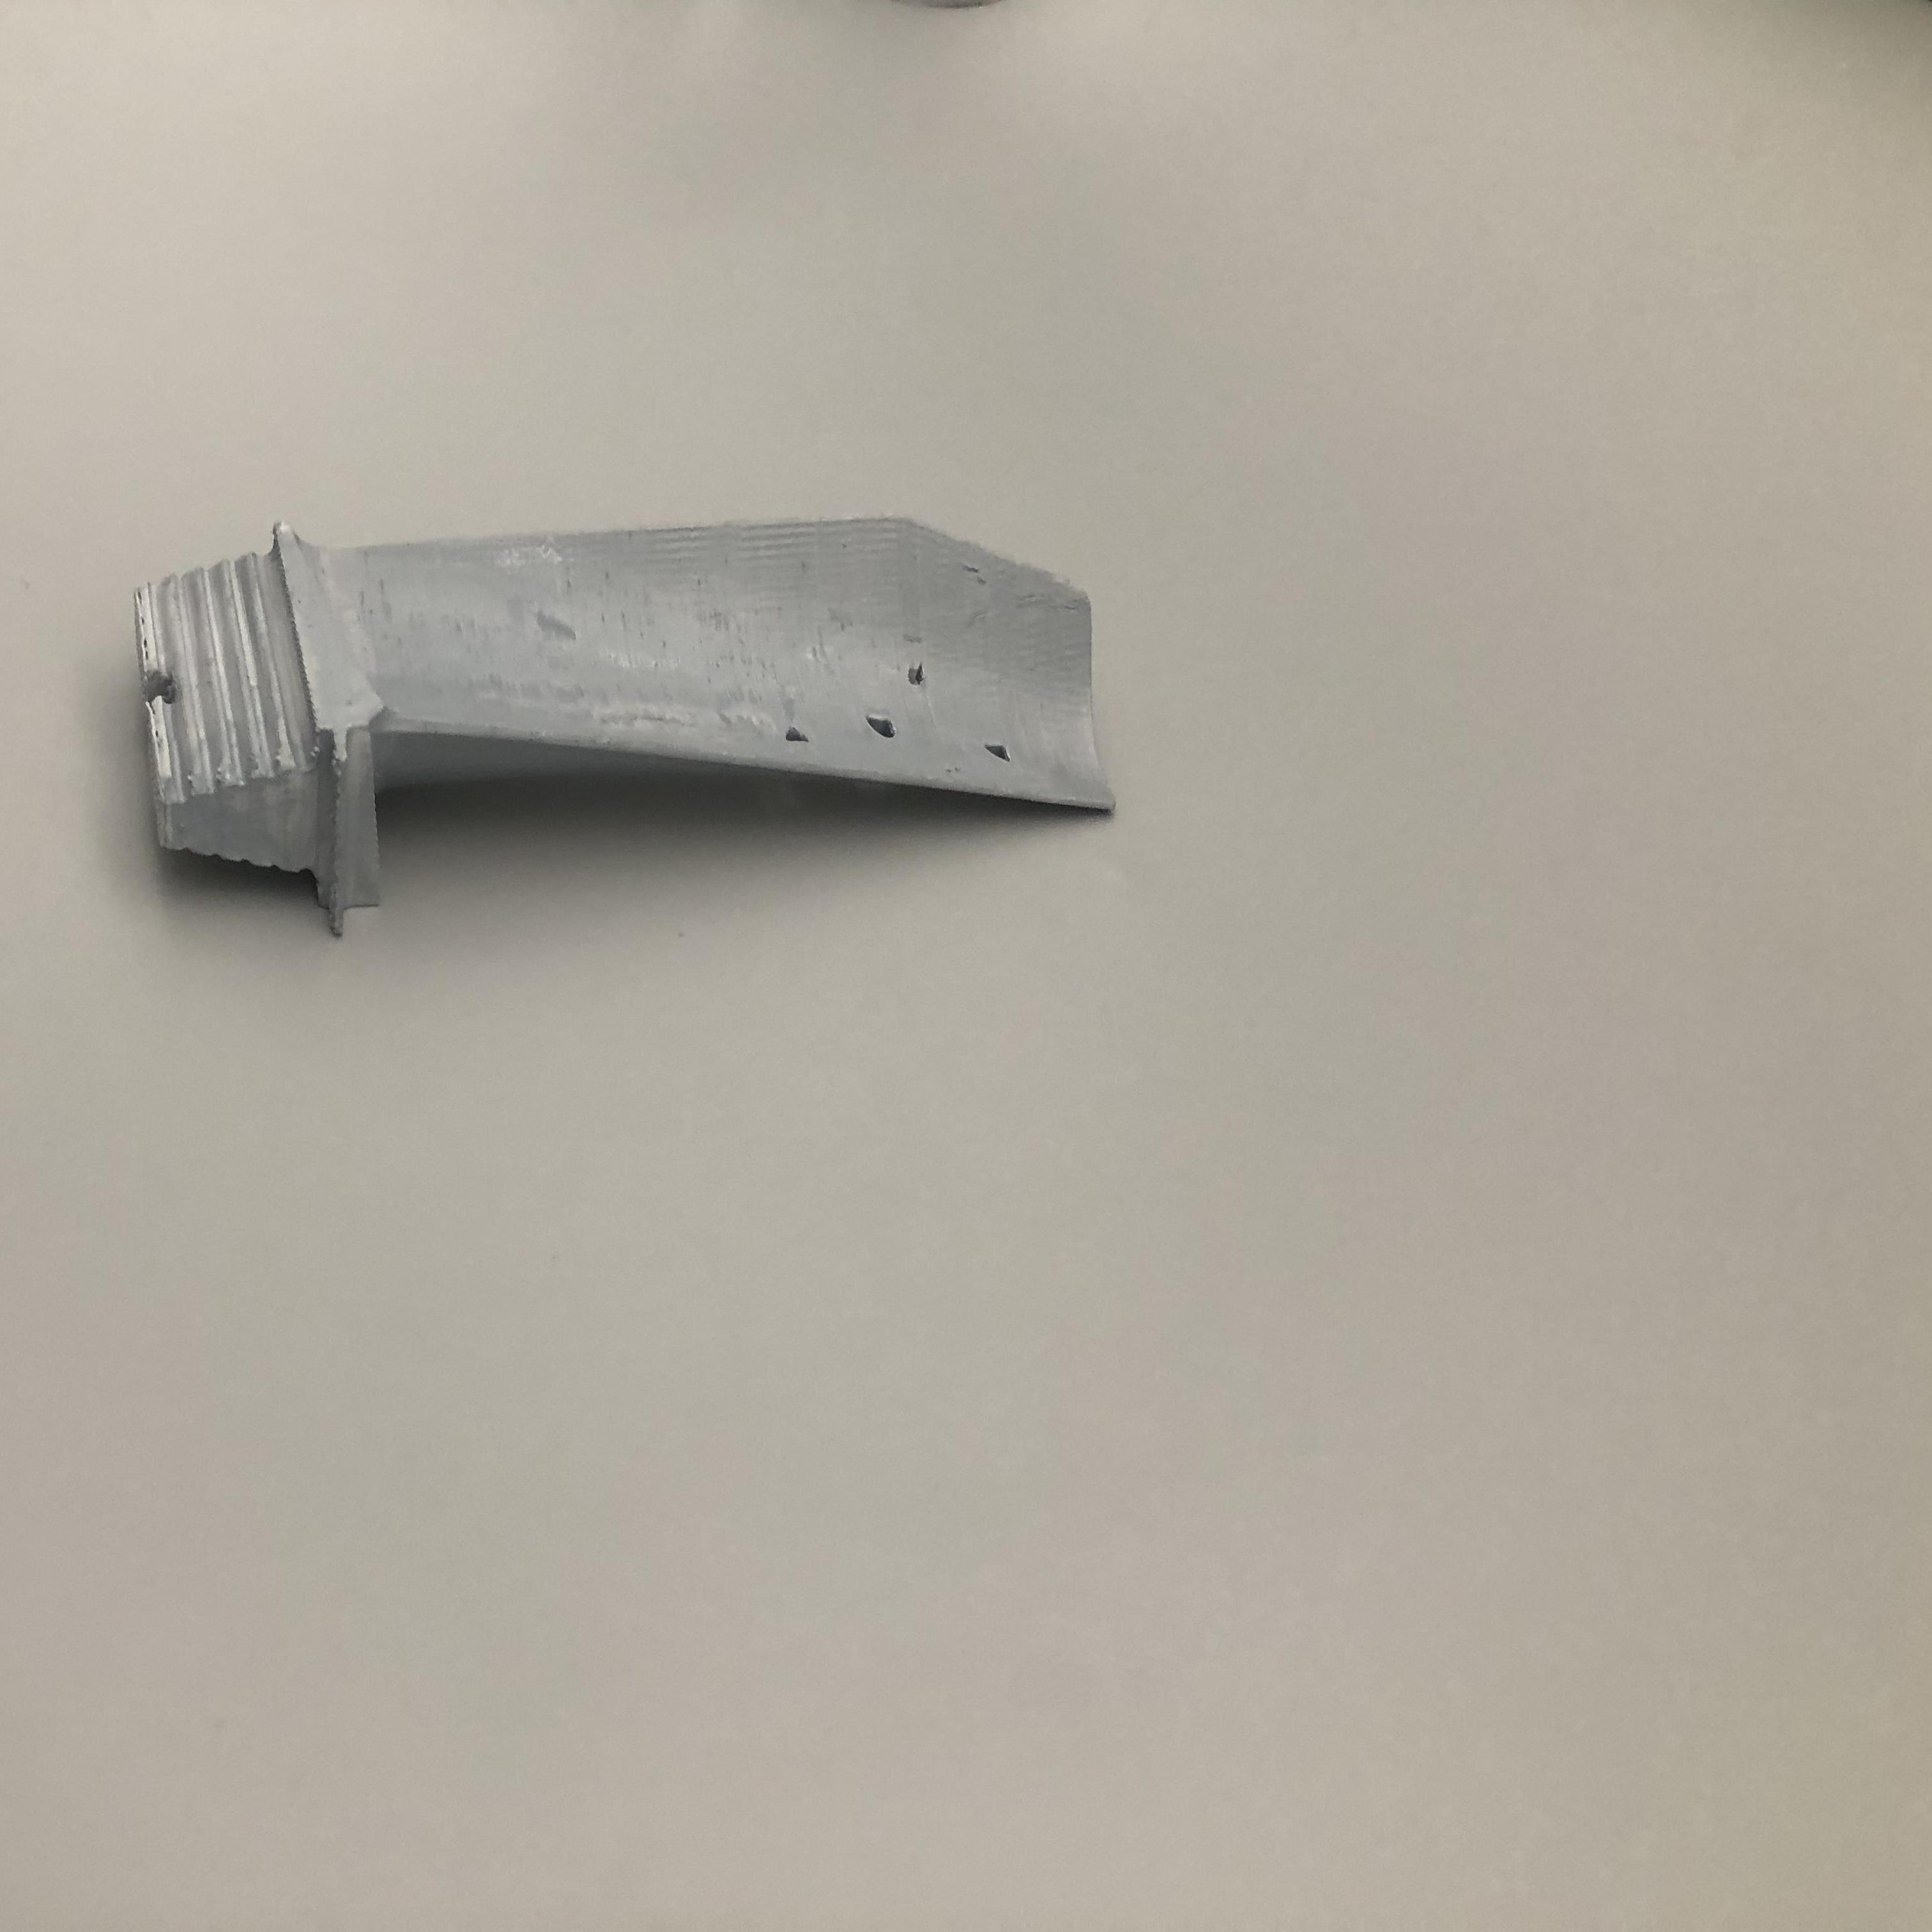breakdown: (787, 656, 1021, 773)
